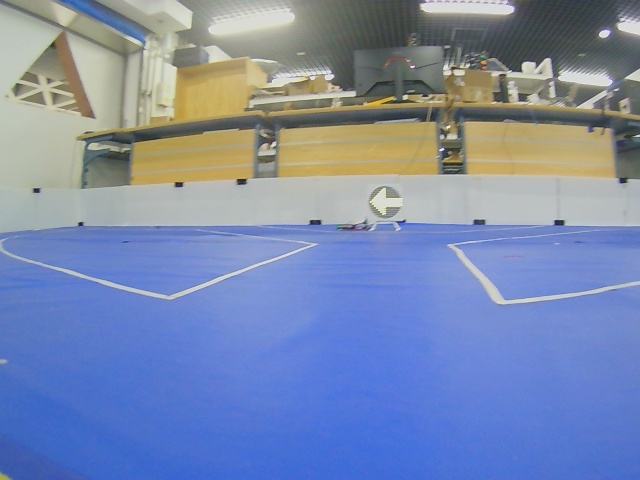left_yellow: (369, 187, 403, 218)
